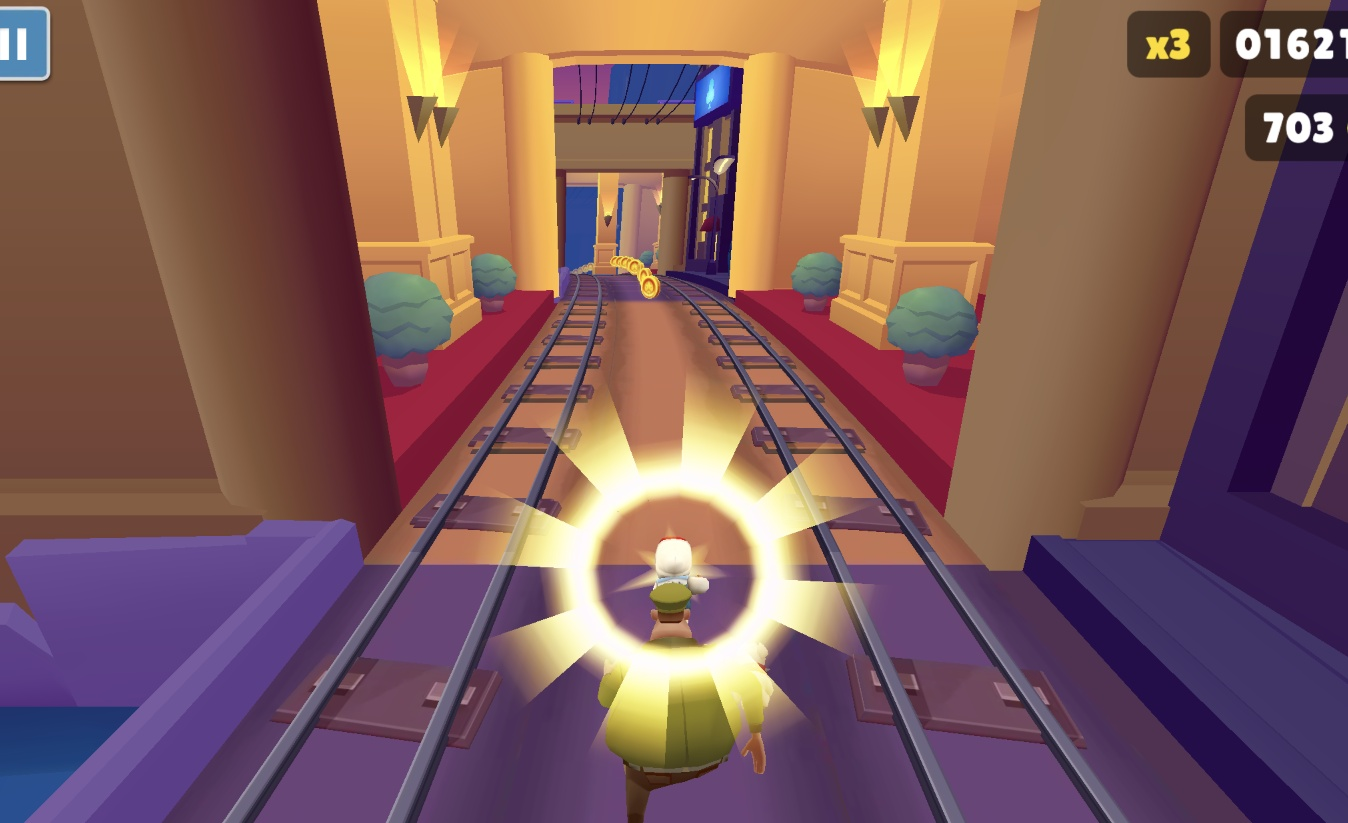pillar: (607, 137, 644, 283)
